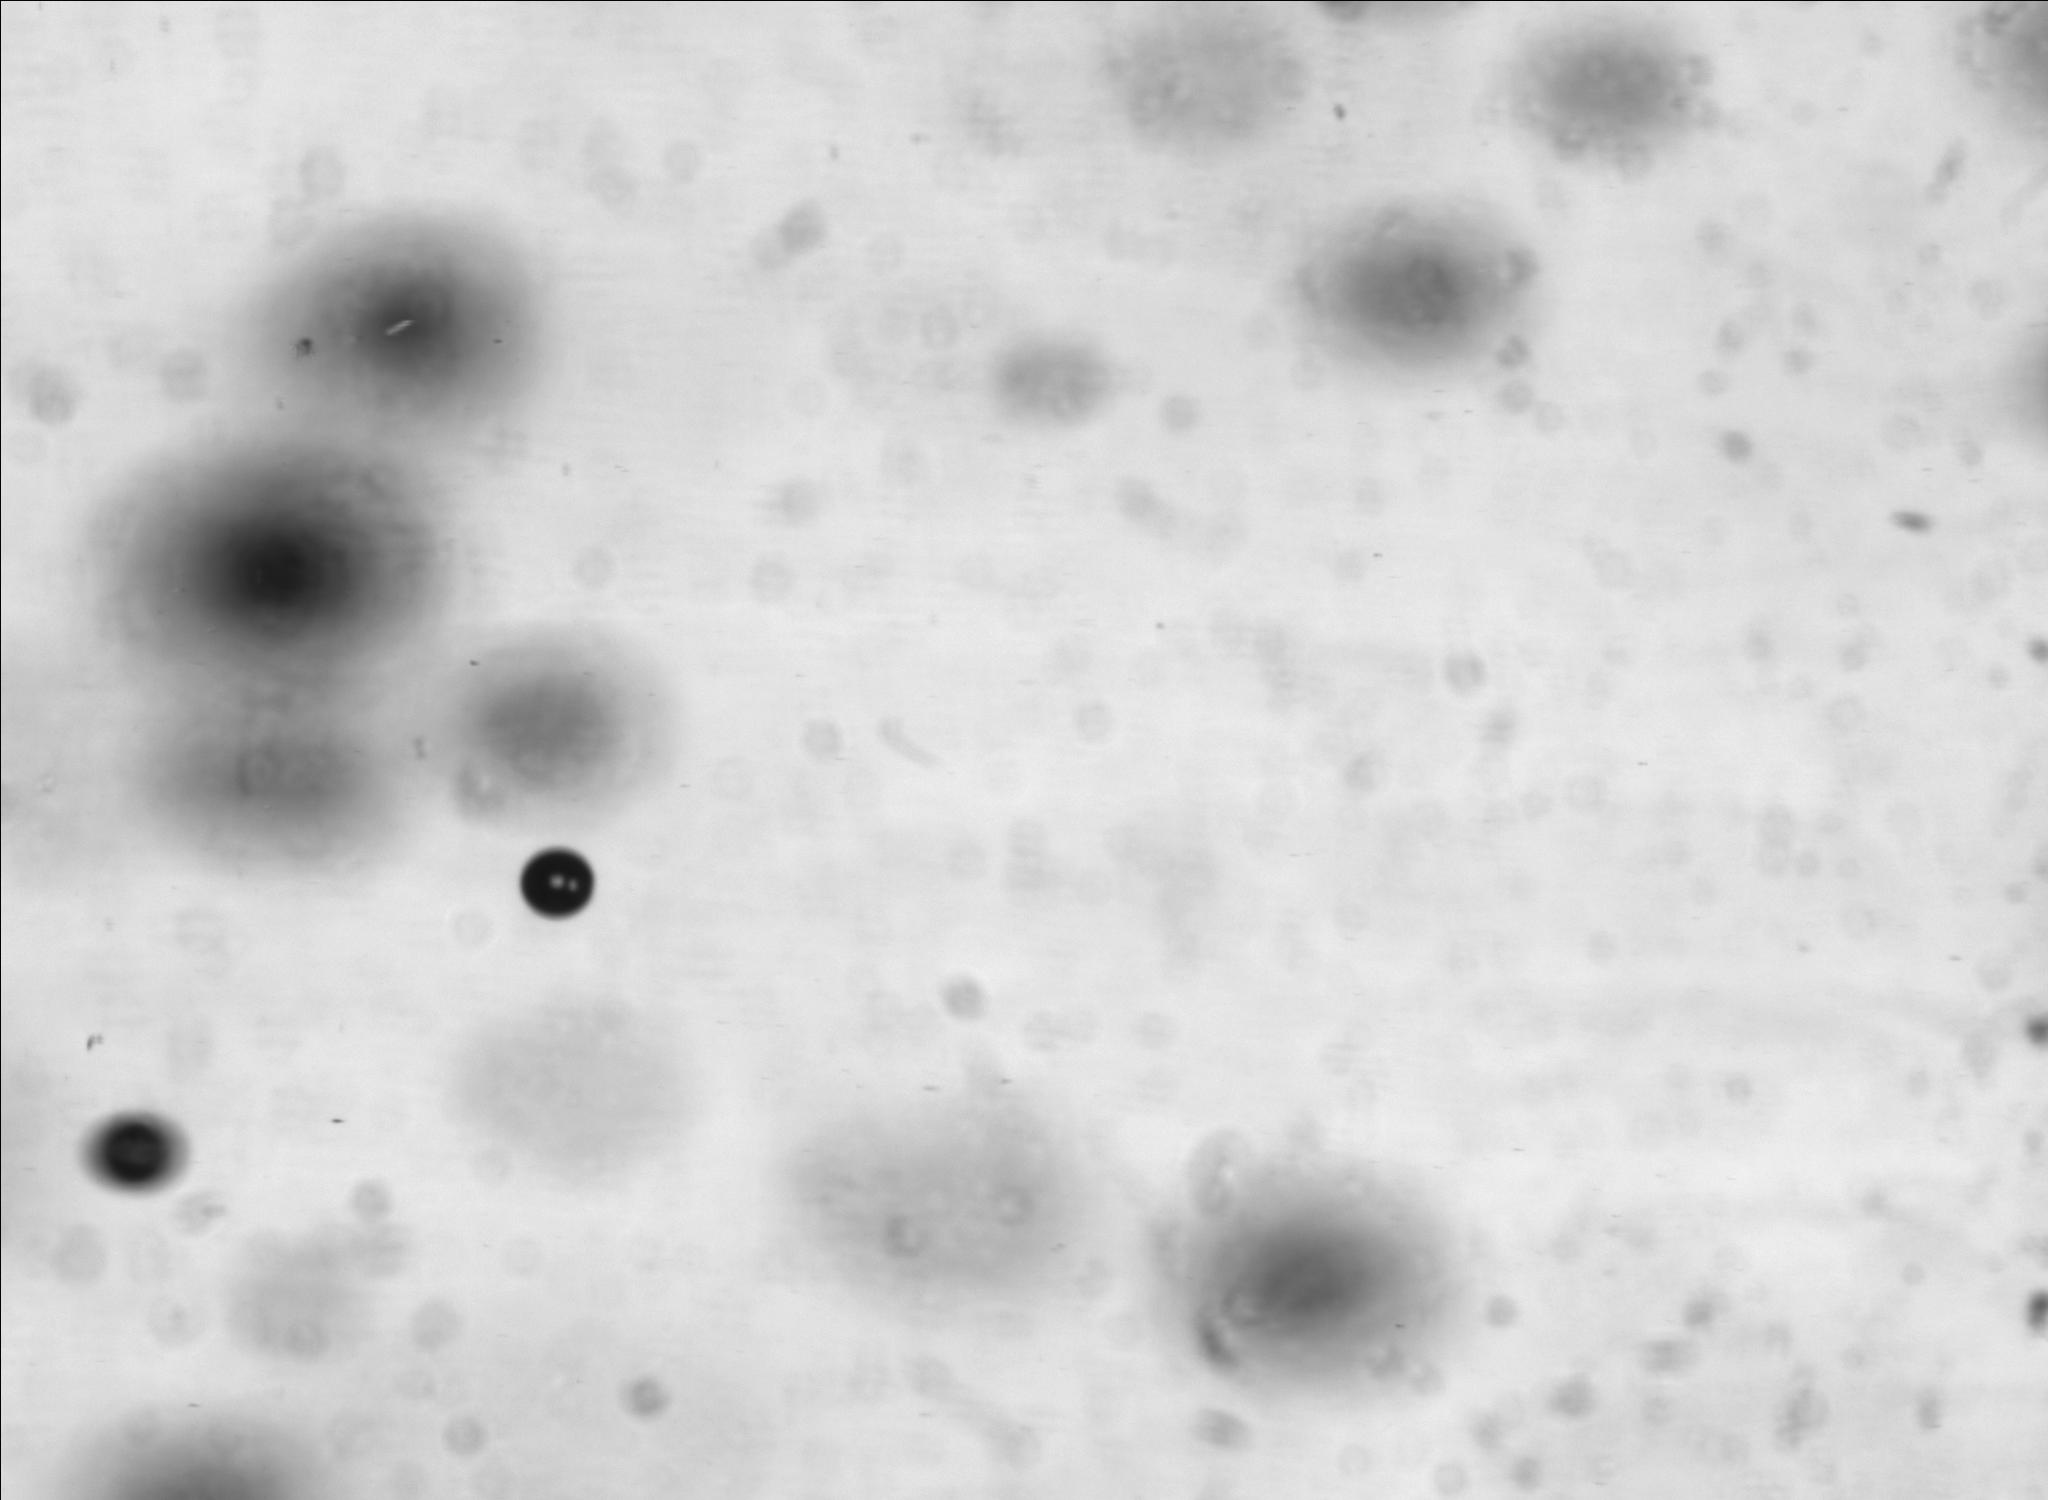bubble: (518, 849, 593, 918)
